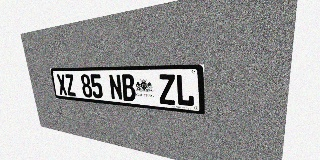5: (90, 74, 103, 99)
8: (80, 74, 93, 98)
B: (121, 74, 136, 102)
L: (175, 74, 194, 107)
N: (108, 74, 123, 100)
X: (56, 74, 68, 95)
Z: (158, 74, 176, 105), (64, 74, 76, 96)
